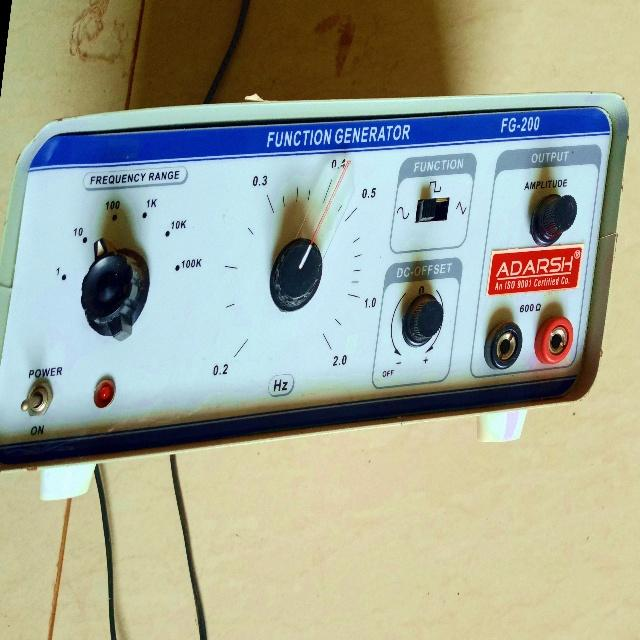Function Generator 100Khz: (0, 22, 640, 516)
